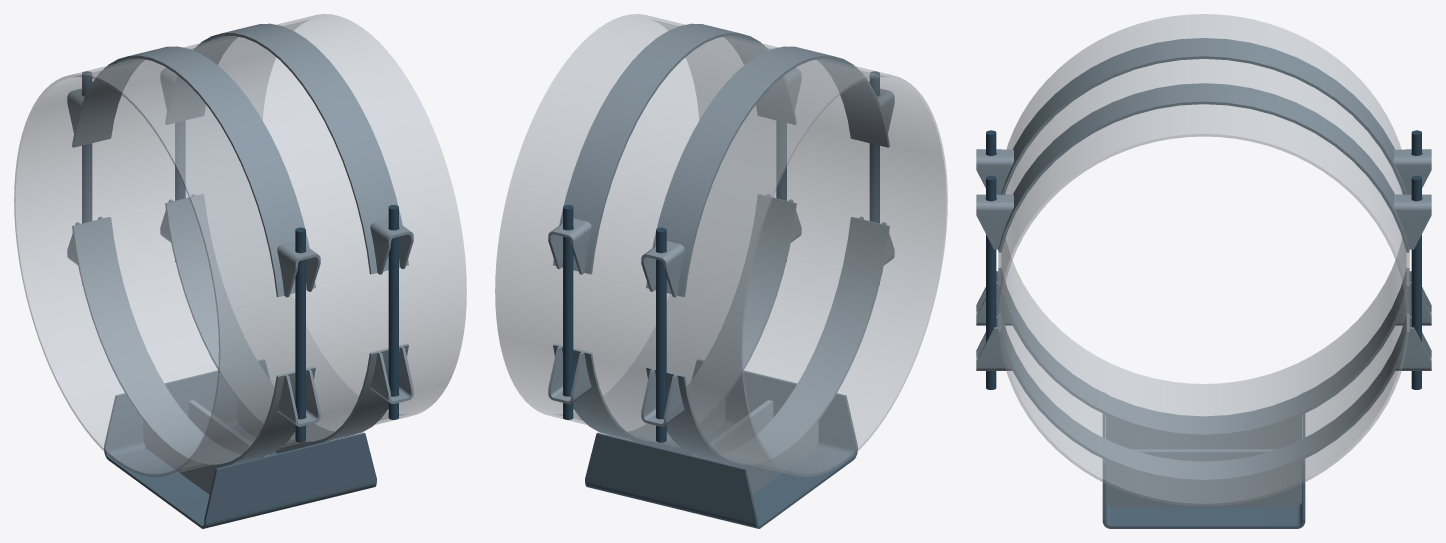
Rendered from TS-627.00.000-079-opora-dn1420-H150-L680.glb.
The picture shows the model from 3 angles, left to right: view 1: azimuth 30°, elevation 25°; view 2: azimuth 150°, elevation 25°; view 3: azimuth 270°, elevation 25°; orthographic projection.
Parts seen in each view (by area): view 1: truba, skoba_0, podushka_5, bugel0_podushka_0, podushka_6, bugel1_podushka_0, shpilka_0_-1, shpilka_1_-1, rebro4_1, bugel0_ushko_2, bugel1_ushko_2, ushko_8 (+5 smaller); view 2: truba, skoba_0, podushka_5, bugel0_podushka_0, podushka_6, bugel1_podushka_0, shpilka_0_1, shpilka_1_1, rebro4_1, bugel0_ushko_1, bugel1_ushko_1, ushko_7 (+5 smaller); view 3: truba, podushka_6, podushka_5, bugel1_podushka_0, bugel0_podushka_0, rebro4_2, skoba_0, rebro4_1, shpilka_1_1, shpilka_1_-1, bugel1_ushko_1, bugel1_ushko_2 (+7 smaller).
Part boxes in pixels (x1,y1,x2,y2): truba: (14, 14, 466, 477); skoba_0: (104, 359, 376, 528); podushka_5: (72, 217, 315, 467); bugel0_podushka_0: (72, 46, 315, 296); podushka_6: (165, 194, 408, 444); bugel1_podushka_0: (165, 23, 408, 274); shpilka_0_-1: (295, 227, 305, 442); shpilka_1_-1: (388, 205, 398, 419); rebro4_1: (143, 421, 235, 494); bugel0_ushko_2: (277, 241, 320, 297); bugel1_ushko_2: (370, 218, 413, 274); ushko_8: (277, 369, 320, 426); truba: (495, 14, 947, 477); skoba_0: (585, 359, 857, 528); podushka_5: (646, 217, 889, 467); bugel0_podushka_0: (646, 46, 889, 296); podushka_6: (553, 194, 796, 444); bugel1_podushka_0: (553, 23, 796, 274); shpilka_0_1: (656, 227, 666, 442); shpilka_1_1: (563, 205, 573, 419); rebro4_1: (726, 421, 818, 494); bugel0_ushko_1: (641, 241, 684, 297); bugel1_ushko_1: (548, 218, 591, 274); ushko_7: (641, 369, 684, 426); truba: (998, 14, 1409, 506); podushka_6: (998, 313, 1409, 482); podushka_5: (998, 268, 1409, 437); bugel1_podushka_0: (998, 83, 1409, 252); bugel0_podushka_0: (1001, 38, 1406, 194); rebro4_2: (1106, 460, 1301, 507); skoba_0: (1102, 414, 1305, 528); rebro4_1: (1106, 415, 1301, 449); shpilka_1_1: (1411, 175, 1421, 389); shpilka_1_-1: (986, 175, 996, 389); bugel1_ushko_1: (1394, 194, 1431, 249); bugel1_ushko_2: (976, 194, 1013, 249).
Size of the model in its own units: 980 by 1591 by 1572.
